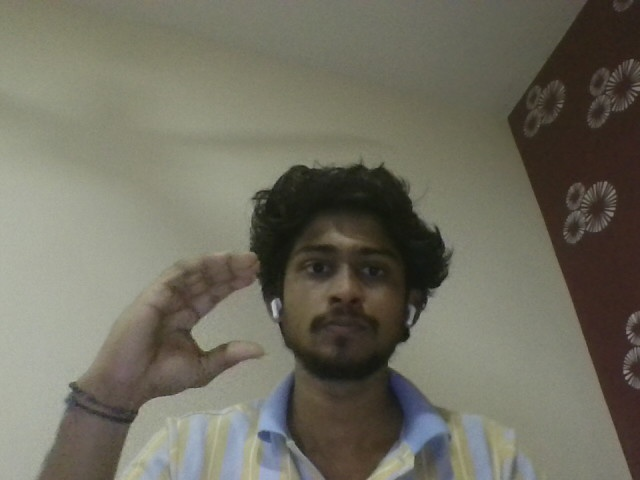No: (72, 245, 279, 400)
